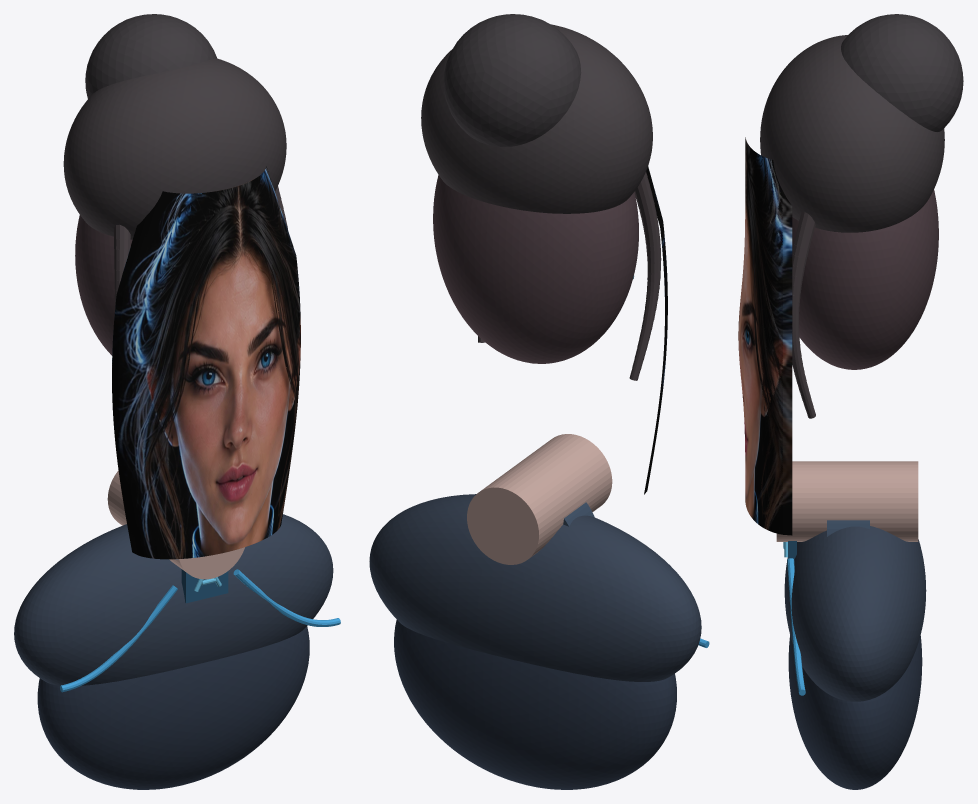
File: aria_avatar_bust_prototype.glb
3 renders of one model, left to right at view 1: azimuth 30°, elevation 25°; view 2: azimuth 150°, elevation 25°; view 3: azimuth 270°, elevation 25°, orthographic. The views are drawn at different scales.
Parts seen in each view (by area): view 1: Face_Sculpted_Textured, Shoulder_Body, Hair_Crown, Torso, Hair_Bun, Cranium, Neck, ARIA_Emblem_Plate; view 2: Shoulder_Body, Torso, Cranium, Hair_Crown, Hair_Bun, Neck, Face_Sculpted_Textured; view 3: Hair_Crown, Shoulder_Body, Face_Sculpted_Textured, Cranium, Torso, Hair_Bun, Neck, Futuristic_Collar.
Part boxes in pixels (left/top/right/bottom): Face_Sculpted_Textured: left=112, top=166, right=300, bottom=559; Shoulder_Body: left=14, top=514, right=333, bottom=685; Hair_Crown: left=63, top=58, right=286, bottom=239; Torso: left=37, top=626, right=309, bottom=789; Hair_Bun: left=85, top=14, right=217, bottom=98; Cranium: left=75, top=215, right=132, bottom=355; Neck: left=107, top=470, right=244, bottom=579; ARIA_Emblem_Plate: left=181, top=569, right=228, bottom=603; Shoulder_Body: left=369, top=494, right=701, bottom=681; Torso: left=394, top=619, right=676, bottom=789; Cranium: left=433, top=175, right=638, bottom=363; Hair_Crown: left=421, top=24, right=652, bottom=213; Hair_Bun: left=443, top=14, right=581, bottom=146; Neck: left=467, top=434, right=612, bottom=564; Face_Sculpted_Textured: left=644, top=166, right=667, bottom=494; Hair_Crown: left=760, top=35, right=944, bottom=232; Shoulder_Body: left=784, top=526, right=926, bottom=701; Face_Sculpted_Textured: left=738, top=137, right=792, bottom=535; Cranium: left=792, top=190, right=938, bottom=369; Torso: left=788, top=635, right=922, bottom=789; Hair_Bun: left=841, top=14, right=963, bottom=131; Neck: left=776, top=461, right=918, bottom=541; Futuristic_Collar: left=827, top=520, right=869, bottom=536.
Size of the model in its own units: 1.84 by 4.22 by 1.14.
1 material, 1 textured.
